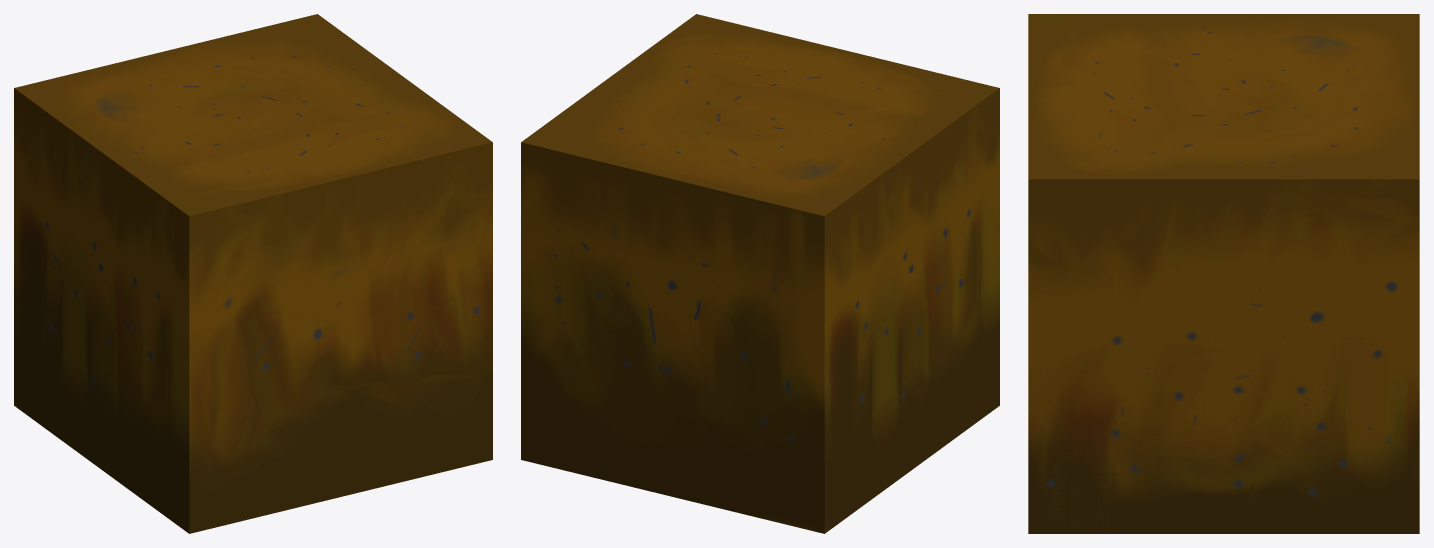
The model's file is GroundEnemy.fbx.
The picture shows the model from 3 angles, left to right: view 1: azimuth 30°, elevation 25°; view 2: azimuth 150°, elevation 25°; view 3: azimuth 270°, elevation 25°; orthographic projection. The views are drawn at different scales.
Visible parts, largest first — view 1: Ground; view 2: Ground; view 3: Ground.
Boxes of the visible parts, x1=… form: Ground: x1=14, y1=14, x2=492, y2=533; Ground: x1=521, y1=14, x2=999, y2=533; Ground: x1=1028, y1=14, x2=1419, y2=533.
Size of the model in its own units: 200 by 200 by 200.
Materials: 1 (1 with a texture image).
